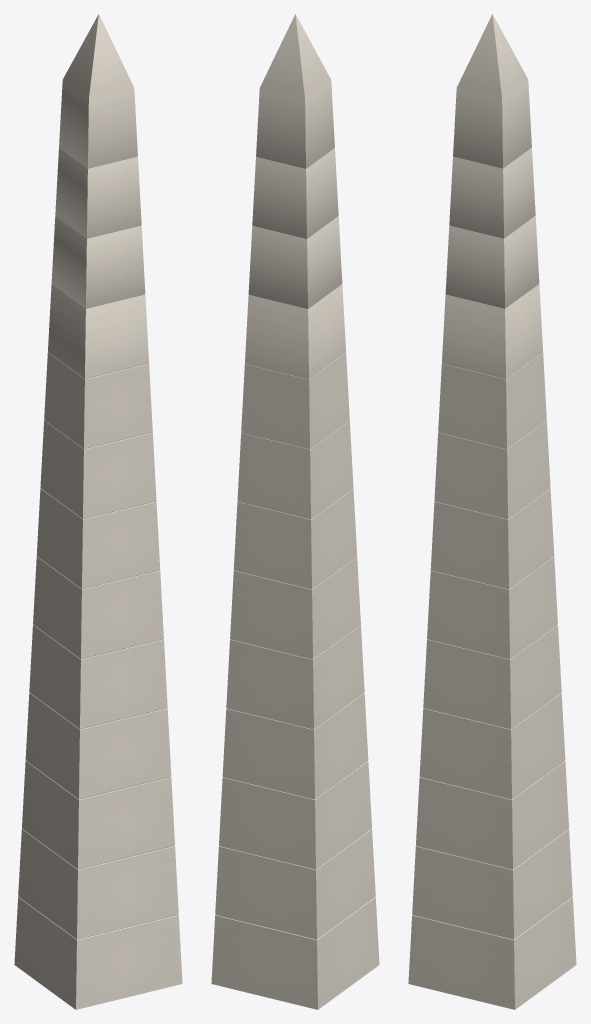
The model's file is obelisco.glb.
The picture shows the model from 3 angles, left to right: view 1: azimuth 30°, elevation 25°; view 2: azimuth 150°, elevation 25°; view 3: azimuth 330°, elevation 25°; orthographic projection.
Visible parts, largest first — view 1: Obelisco; view 2: Obelisco; view 3: Obelisco.
Part boxes in pixels (bbox=[...]): Obelisco: bbox=[14, 14, 182, 1009]; Obelisco: bbox=[211, 14, 379, 1009]; Obelisco: bbox=[408, 14, 576, 1009].
Bounding box in the file's own units: 6.18 × 53.18 × 6.18.
1 material, 1 textured.
